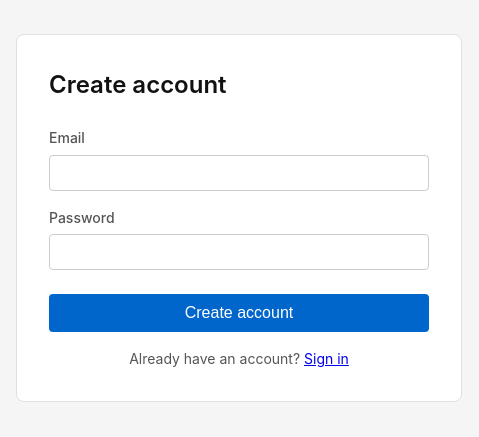
Test: RegisterPage › shows error message from authService on failure
Type "dup@user.com" into the field labelled "Email". click: (239, 172)
box: x1=49 y1=154 x2=429 y2=190
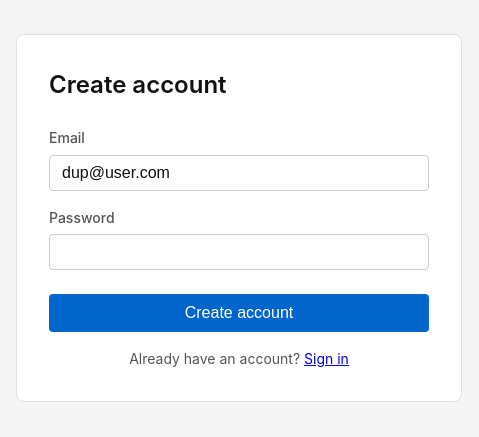
Type "password123" into the password field labelled "Password". click: (239, 252)
box: x1=49 y1=234 x2=429 y2=270
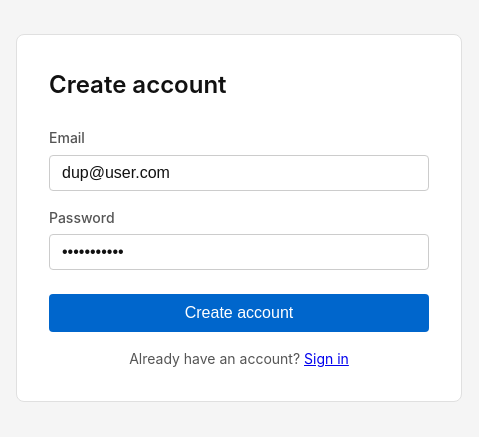
Click the button "Create account". click: (239, 313)
box: x1=49 y1=294 x2=429 y2=332
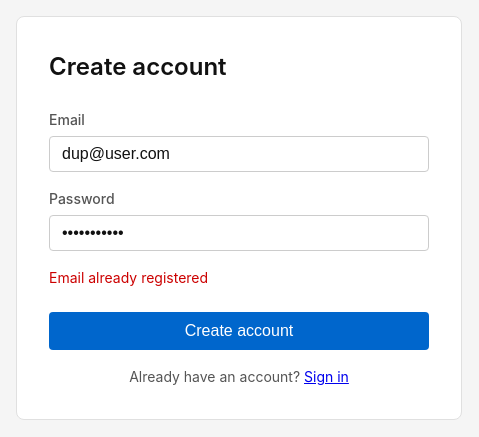
Result: the text "Email already registered" is shown at x1=49 y1=269 x2=208 y2=286
